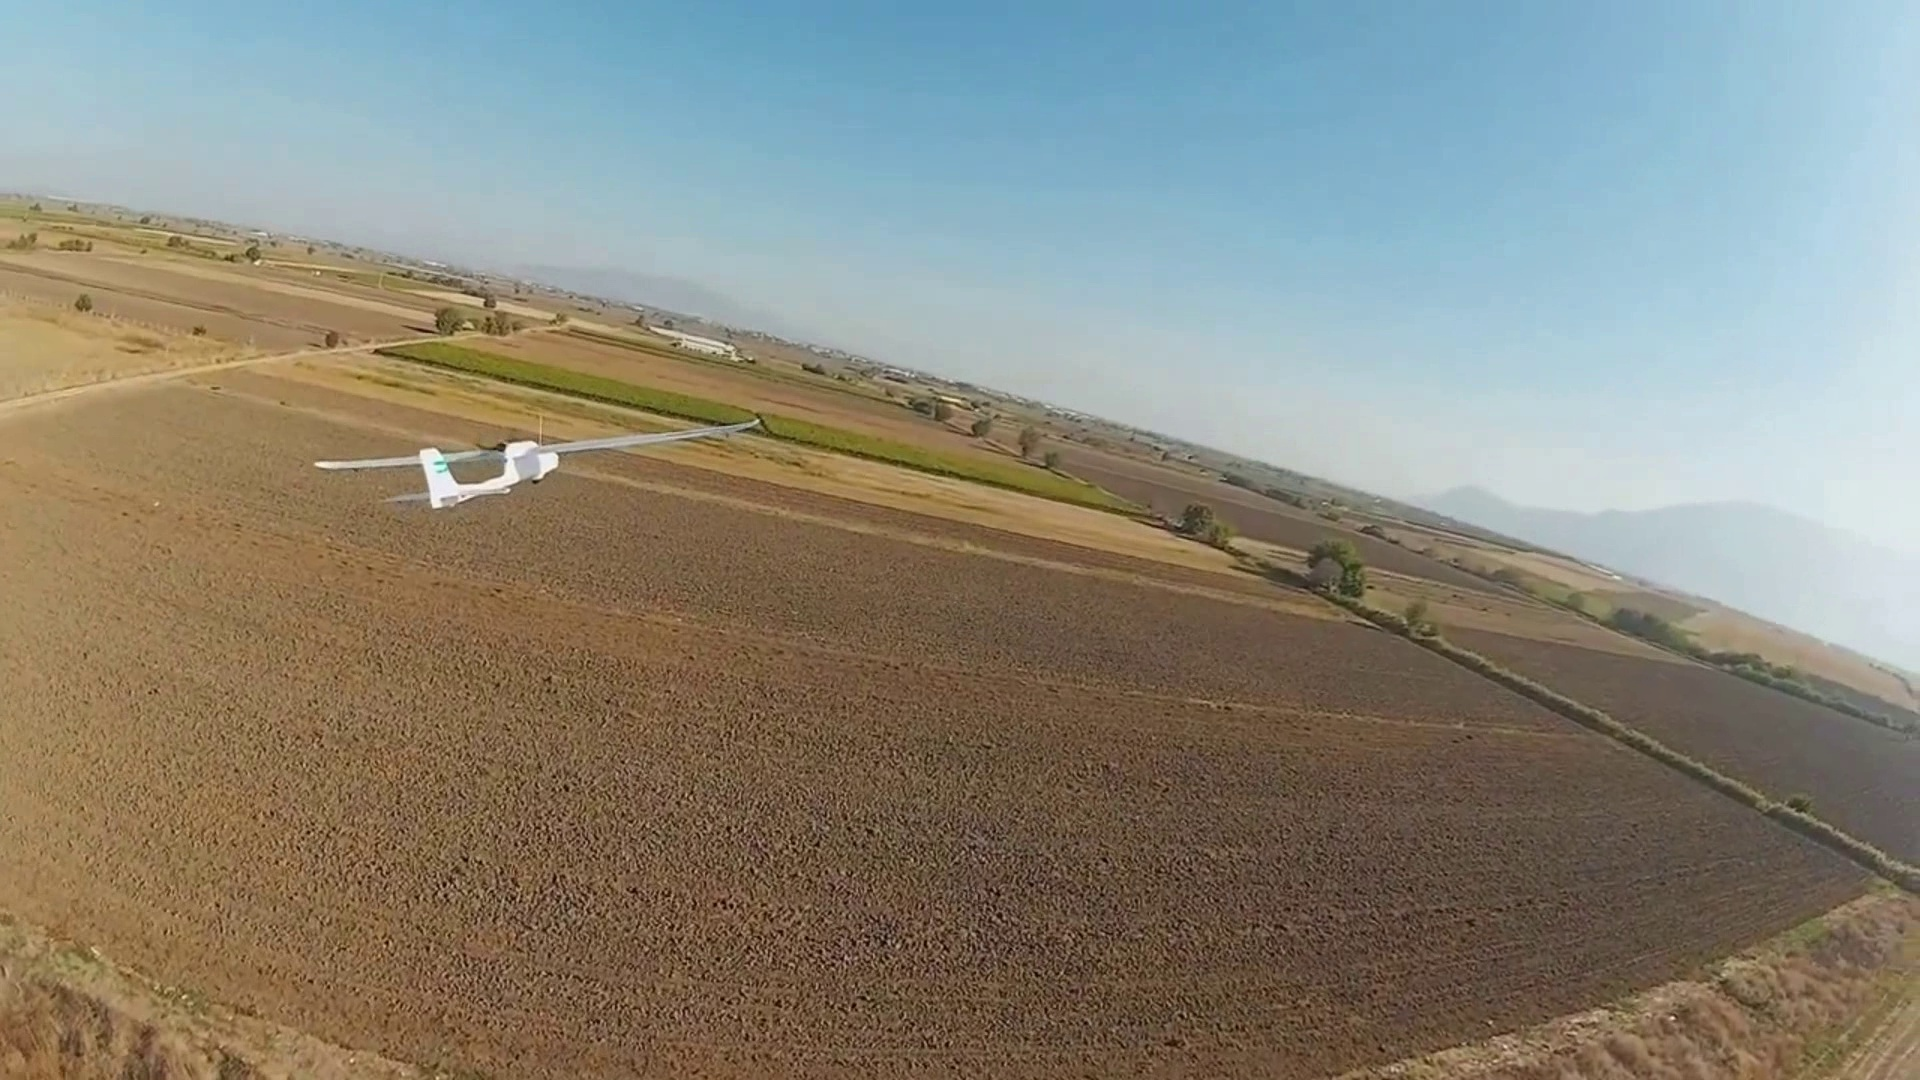airplane: (311, 439, 560, 509)
